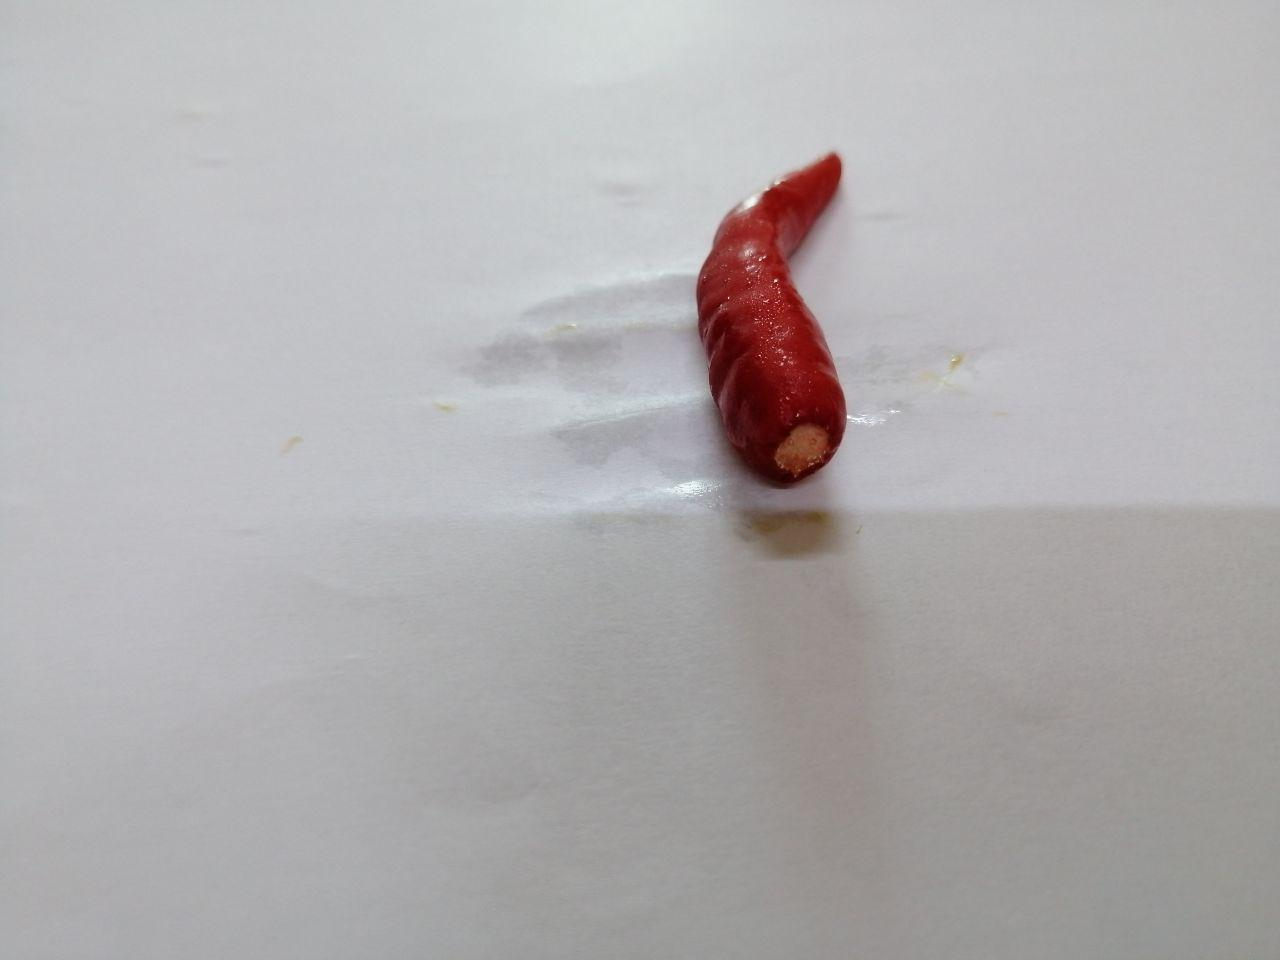lada merah: (656, 146, 906, 514)
